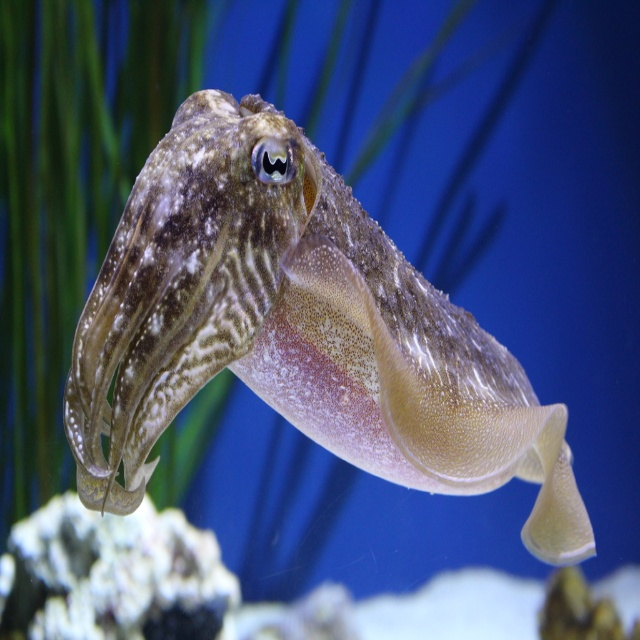Fish: (63, 89, 597, 566)
